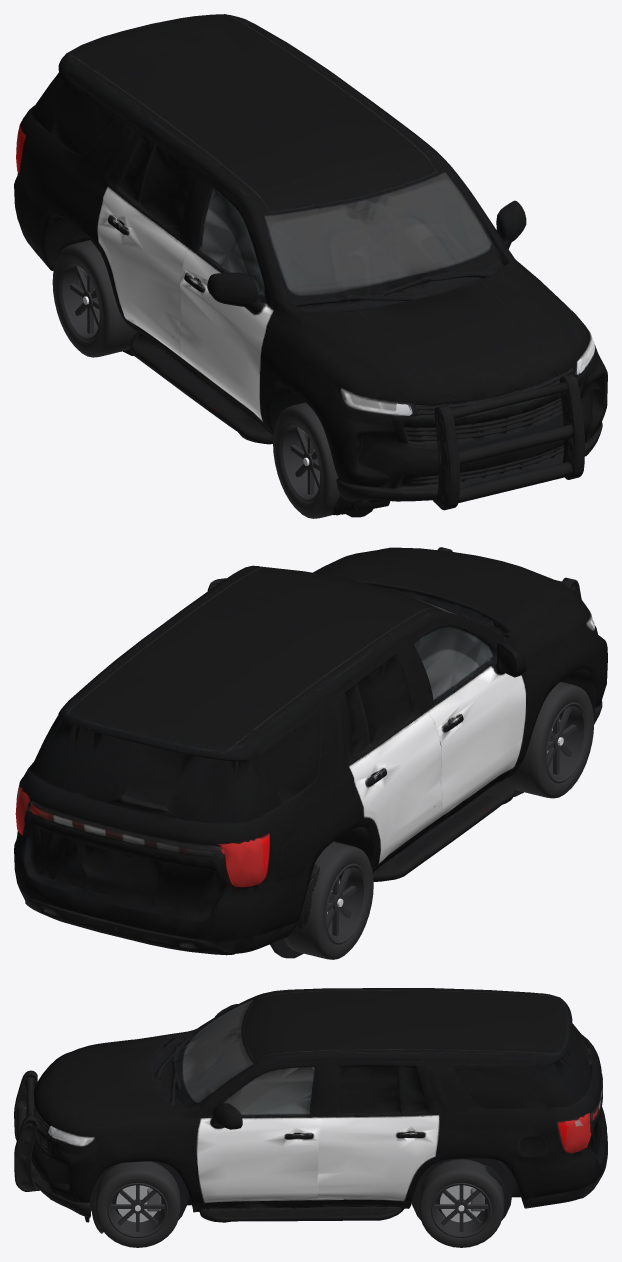
The model's file is cop_suv.glb.
3 renders of one model, top to bottom at view 1: azimuth 30°, elevation 25°; view 2: azimuth 150°, elevation 25°; view 3: azimuth 270°, elevation 25°, orthographic. The views are drawn at different scales.
Visible parts, largest first — view 1: CopSuvBody, WheelRLTyre, WheelFLTyre, WheelFLRims, WheelRLRims; view 2: CopSuvBody, WheelRLTyre, WheelFLTyre, WheelRLRims, WheelFLRims; view 3: CopSuvBody, WheelRRTyre, WheelFRTyre, WheelFRRims, WheelRRRims.
Part boxes in pixels (x1,y1,x2,y2): CopSuvBody: [14, 14, 607, 517]; WheelRLTyre: [52, 240, 137, 357]; WheelFLTyre: [273, 402, 339, 518]; WheelFLRims: [280, 422, 321, 503]; WheelRLRims: [59, 261, 101, 342]; CopSuvBody: [14, 547, 607, 958]; WheelRLTyre: [284, 841, 373, 959]; WheelFLTyre: [508, 681, 594, 798]; WheelRLRims: [325, 863, 366, 944]; WheelFLRims: [545, 702, 586, 783]; CopSuvBody: [14, 988, 607, 1233]; WheelRRTyre: [418, 1159, 504, 1247]; WheelFRTyre: [95, 1161, 180, 1247]; WheelFRRims: [107, 1182, 168, 1237]; WheelRRRims: [431, 1182, 491, 1237].
Size of the model in its own units: 2.23 by 1.76 by 5.
10 materials, 2 textured.
